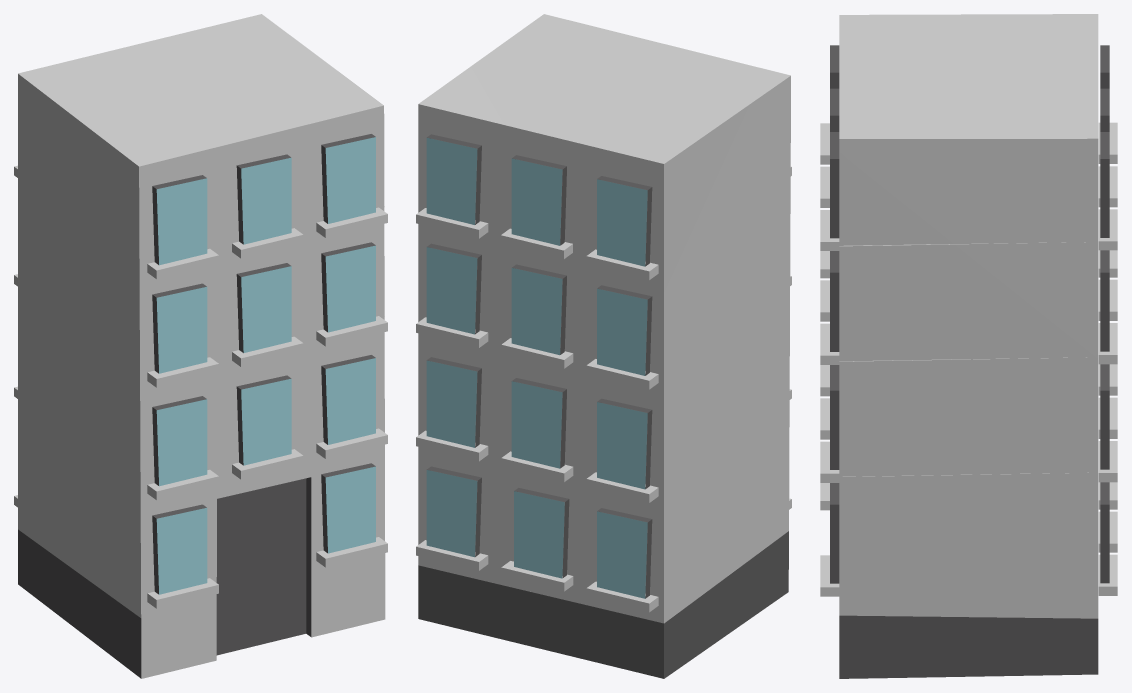
The model's file is house-components.glb.
3 views of the same model, side by side, from view 1: azimuth 30°, elevation 25°; view 2: azimuth 150°, elevation 25°; view 3: azimuth 270°, elevation 25° (orthographic). The views are drawn at different scales.
Parts seen in each view (by area): view 1: side_face_left, front_wall, windows_front, rooftop, facade_front, window_bottom_front, bottom; view 2: side_face_left, back_face, windows_back, rooftop, bottom, window_bottom_back, facade_back; view 3: side_face_right, rooftop, bottom, window_bottom_back, facade_back, facade_front, window_bottom_front.
Part boxes in pixels (x1=…): side_face_left: x1=18, y1=74, x2=141, y2=617; front_wall: x1=139, y1=105, x2=385, y2=678; windows_front: x1=156, y1=137, x2=375, y2=594; rooftop: x1=18, y1=14, x2=383, y2=166; facade_front: x1=152, y1=134, x2=375, y2=655; window_bottom_front: x1=147, y1=207, x2=387, y2=608; bottom: x1=18, y1=529, x2=141, y2=678; side_face_left: x1=664, y1=76, x2=790, y2=623; back_face: x1=418, y1=104, x2=663, y2=623; windows_back: x1=426, y1=138, x2=647, y2=598; rooftop: x1=419, y1=14, x2=790, y2=163; bottom: x1=418, y1=531, x2=788, y2=678; window_bottom_back: x1=416, y1=208, x2=658, y2=612; facade_back: x1=427, y1=134, x2=652, y2=598; side_face_right: x1=839, y1=138, x2=1098, y2=618; rooftop: x1=839, y1=14, x2=1098, y2=138; bottom: x1=839, y1=615, x2=1098, y2=678; window_bottom_back: x1=1098, y1=122, x2=1117, y2=595; facade_back: x1=1100, y1=45, x2=1109, y2=583; facade_front: x1=830, y1=45, x2=839, y2=583; window_bottom_front: x1=820, y1=123, x2=839, y2=596.
Size of the model in its own units: 9.37 by 18.73 by 9.35.
